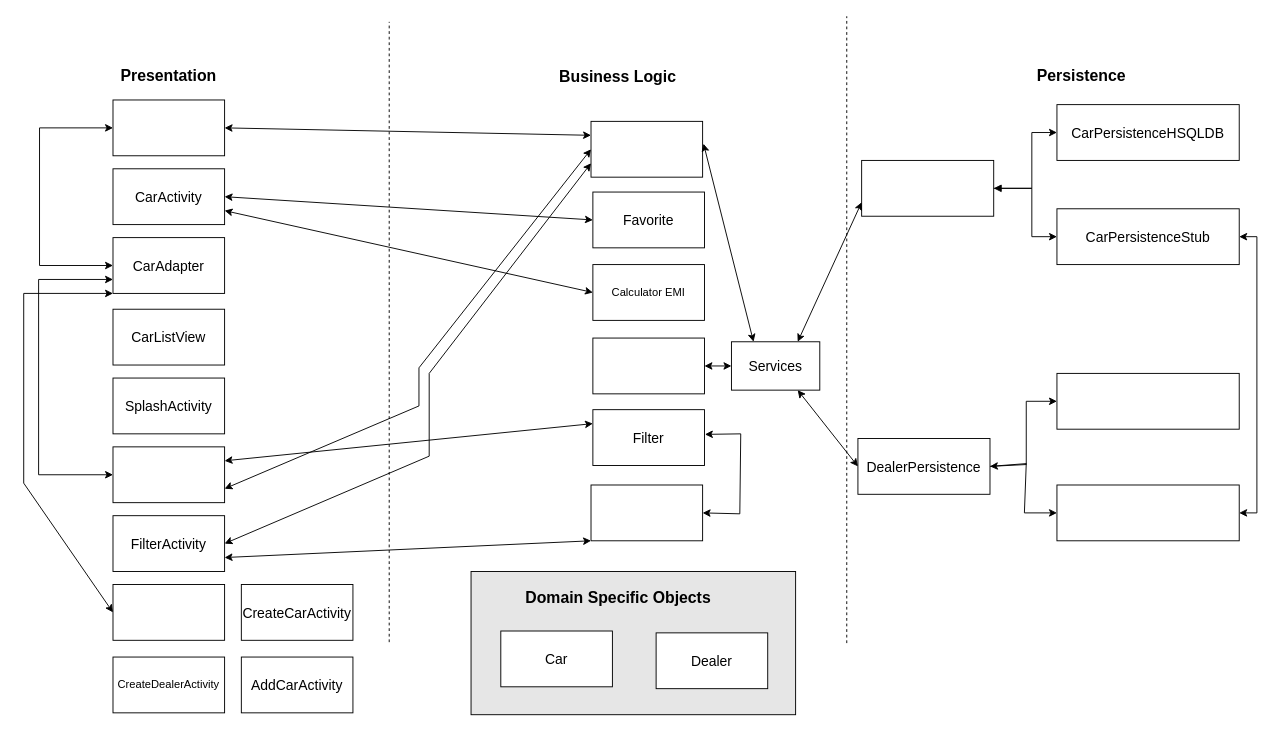
Some shapes in this 1282 by 731 pixel diagram are drawn without their labels. Here are the shapes that lost their labels. From the top down, the centre of each, then its label:
(168,127): MainActivity
(646,148): CarHandler
(927,187): CarPersistence
(648,365): DealerHandler
(1147,400): DealerPersistenceHSQLDB
(168,474): showCarActivity
(646,512): CarFilterManager
(1147,512): DealerPersistenceStub
(168,612): FavoriteActivity
